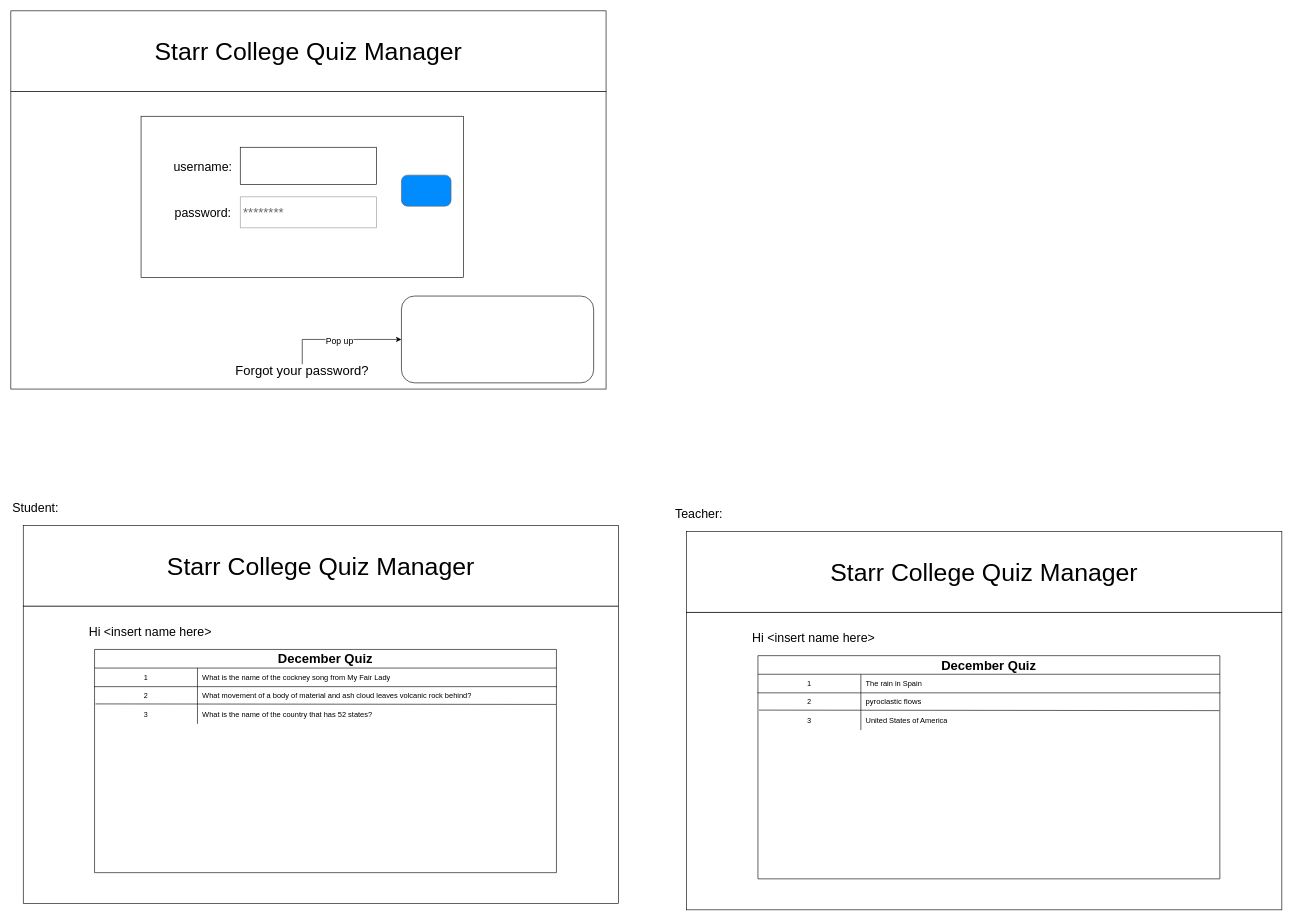
Some shapes in this 1293 by 921 pixel diagram are drawn without their labels. Here are the shapes that lost their labels. From the top down, the centre of each, then its label:
At (426,190): "Login".
At (497,339): "Please email ITSupport@starrcollege.com if you need your password resetting".
